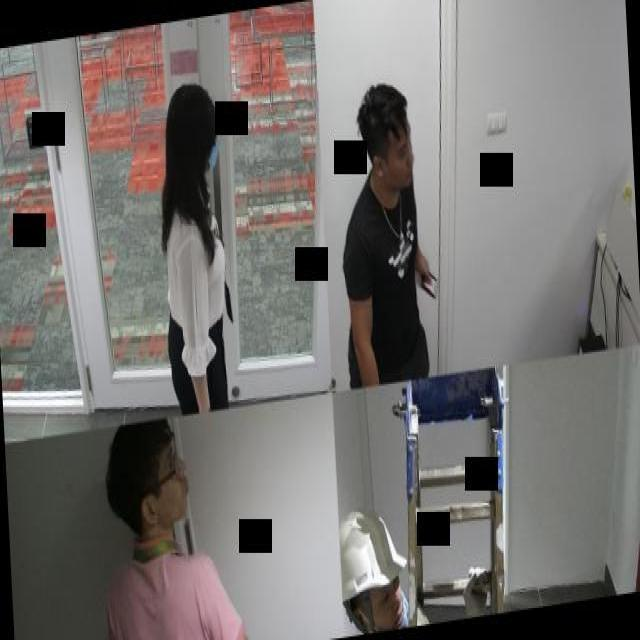hairnet: (372, 572, 410, 640)
